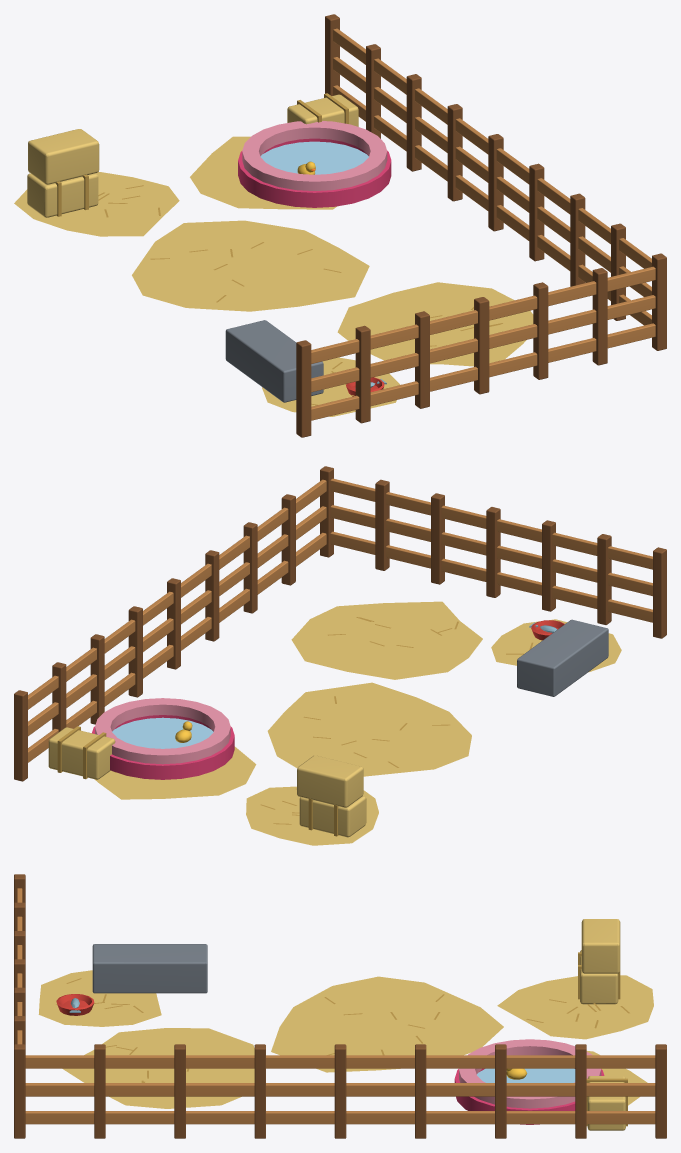
The model's file is CorralAnimales.fbx.
3 renders of one model, top to bottom at view 1: azimuth 30°, elevation 25°; view 2: azimuth 150°, elevation 25°; view 3: azimuth 270°, elevation 25°, orthographic. The views are drawn at different scales.
Visible parts, largest first — view 1: CorralAnimales; view 2: CorralAnimales; view 3: CorralAnimales.
Boxes of the visible parts, left/top/right/bottom form: CorralAnimales: left=14, top=14, right=666, bottom=437; CorralAnimales: left=14, top=466, right=666, bottom=845; CorralAnimales: left=14, top=874, right=666, bottom=1138.
Bounding box in the file's own units: 10.8 × 2.6 × 17.02.
1 material, 1 textured.
